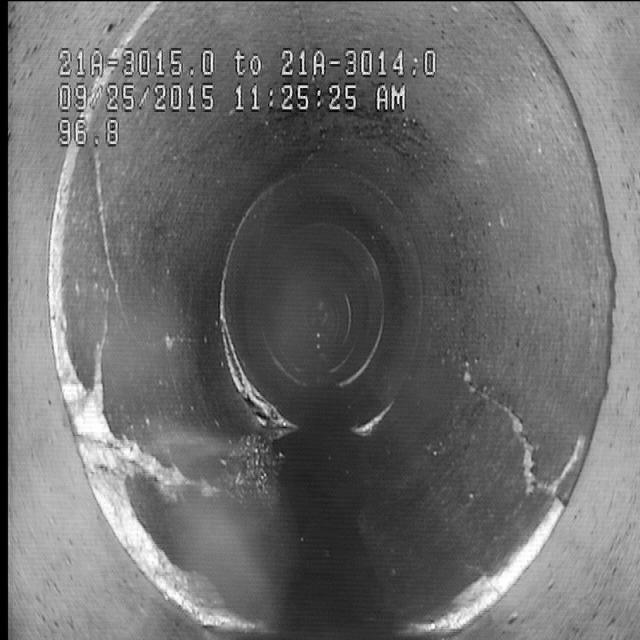Fracture: (51, 222, 166, 492), (448, 337, 574, 495)
